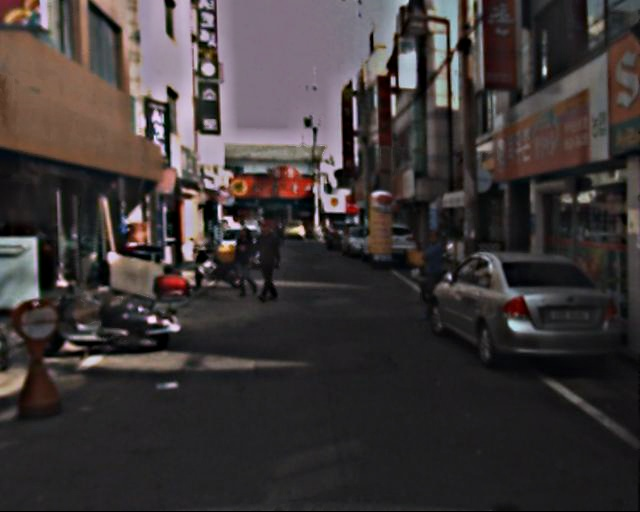person: (419, 228, 454, 326), (253, 216, 287, 309), (231, 226, 261, 303)
